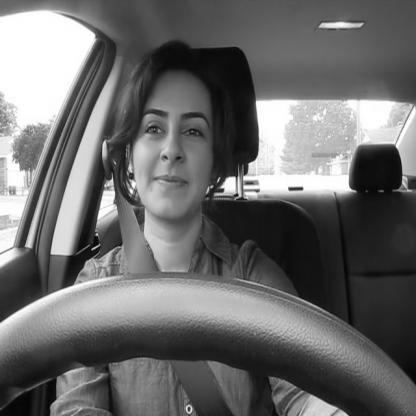seatbelt: (97, 38, 275, 416)
